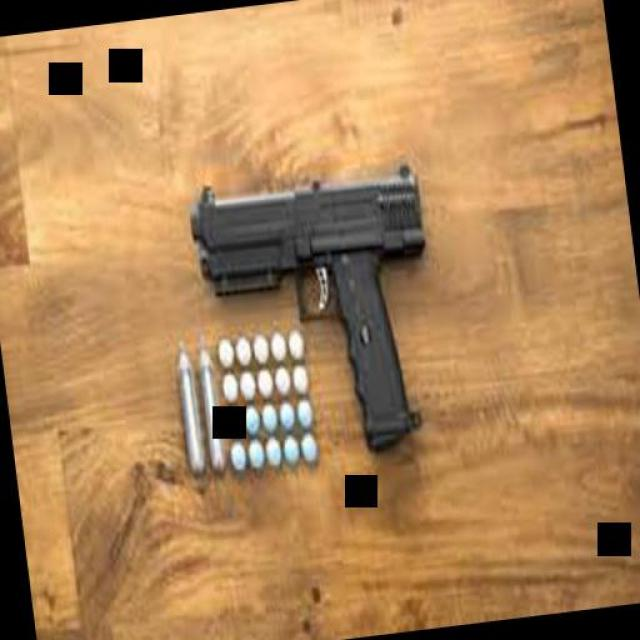gun: (182, 155, 452, 470)
